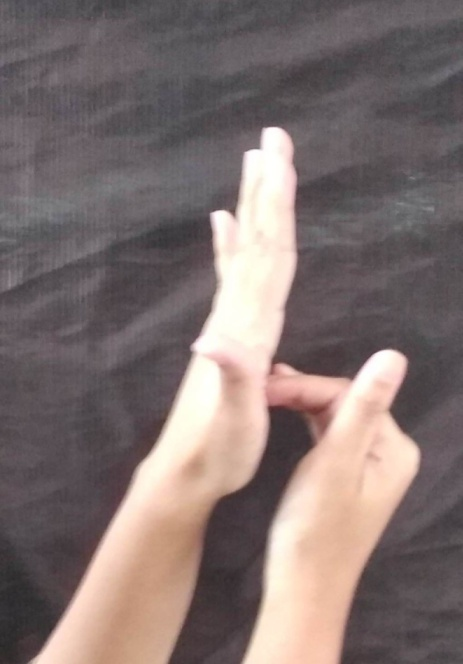ga: (174, 125, 426, 588)
